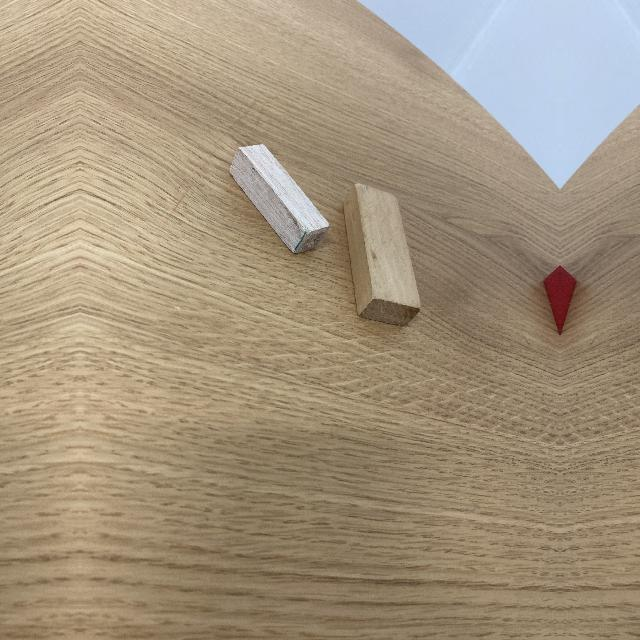block: (229, 145, 329, 256)
jenga: (343, 184, 421, 329)
red block: (543, 263, 560, 341), (560, 263, 577, 341)
